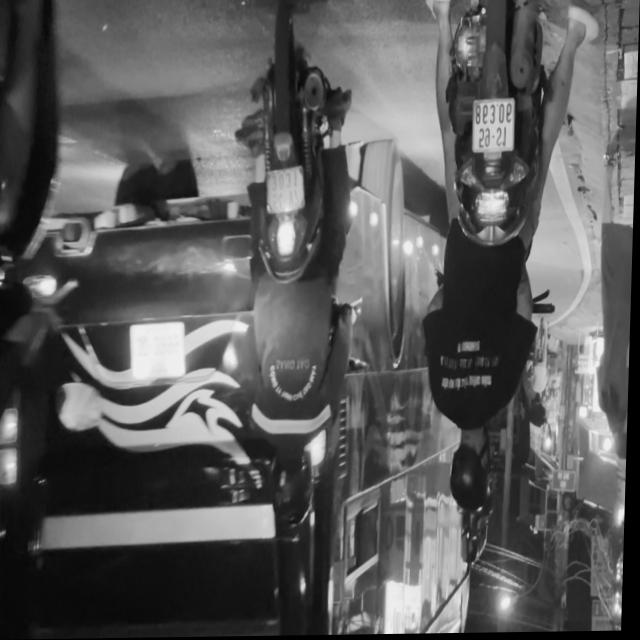helmet: (264, 441, 321, 534), (448, 431, 497, 518)
licenseplate: (410, 0, 580, 524), (223, 9, 366, 543), (0, 0, 86, 640)
nohelmet: (473, 103, 515, 155), (266, 170, 305, 214)
